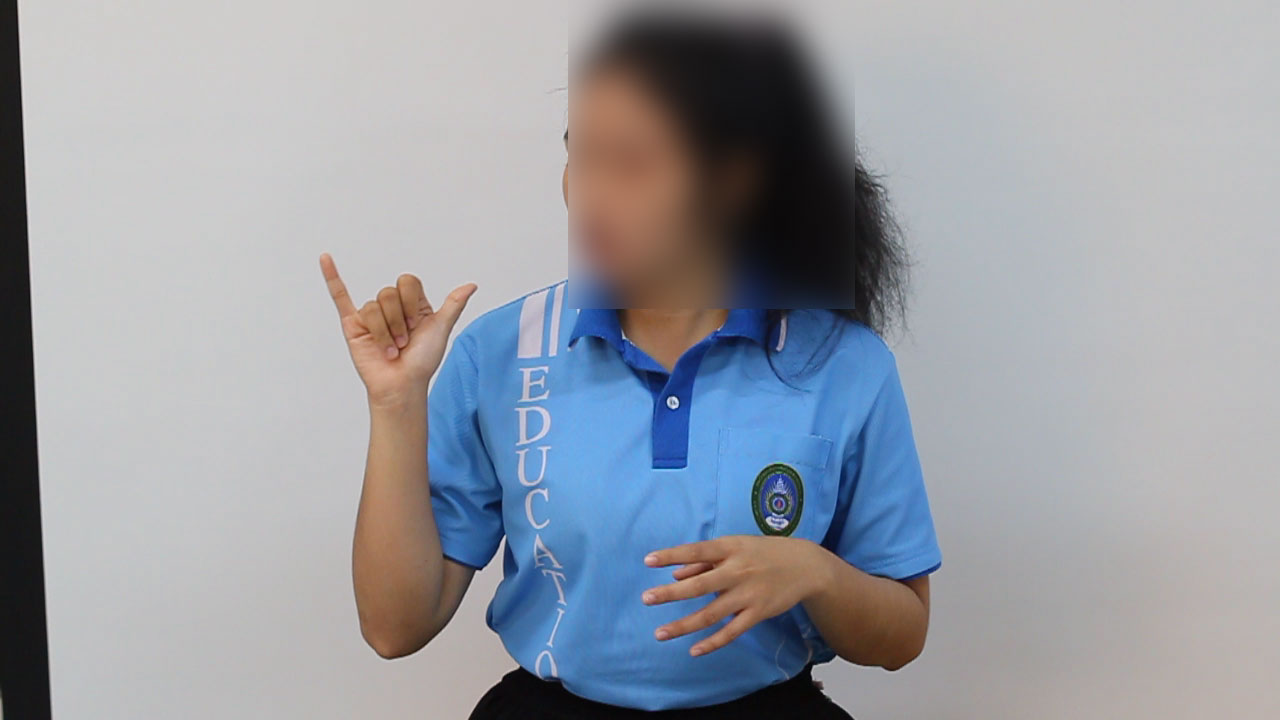yor: (306, 244, 487, 409)
